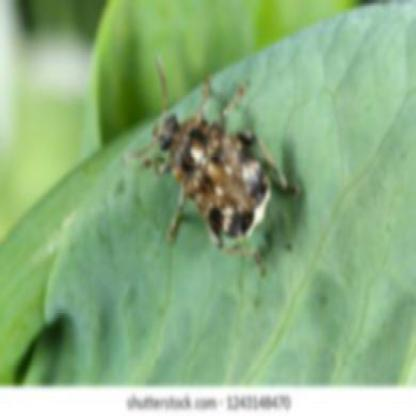ash weevil: (148, 115, 269, 241)
